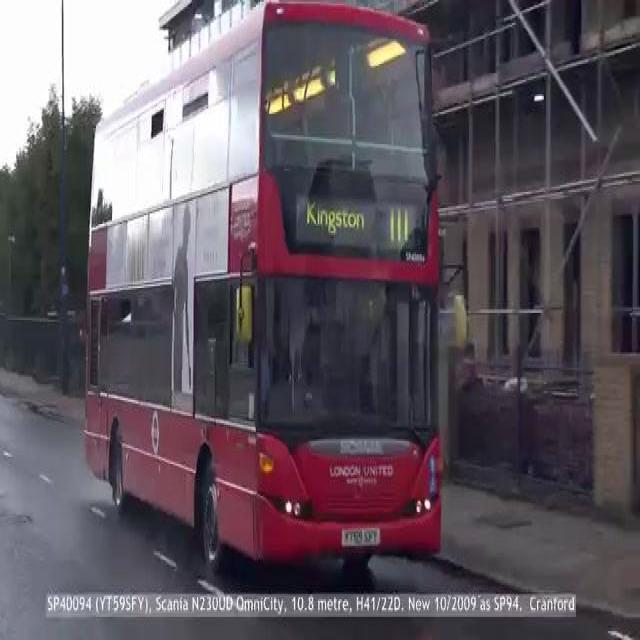bus: (48, 1, 479, 616)
